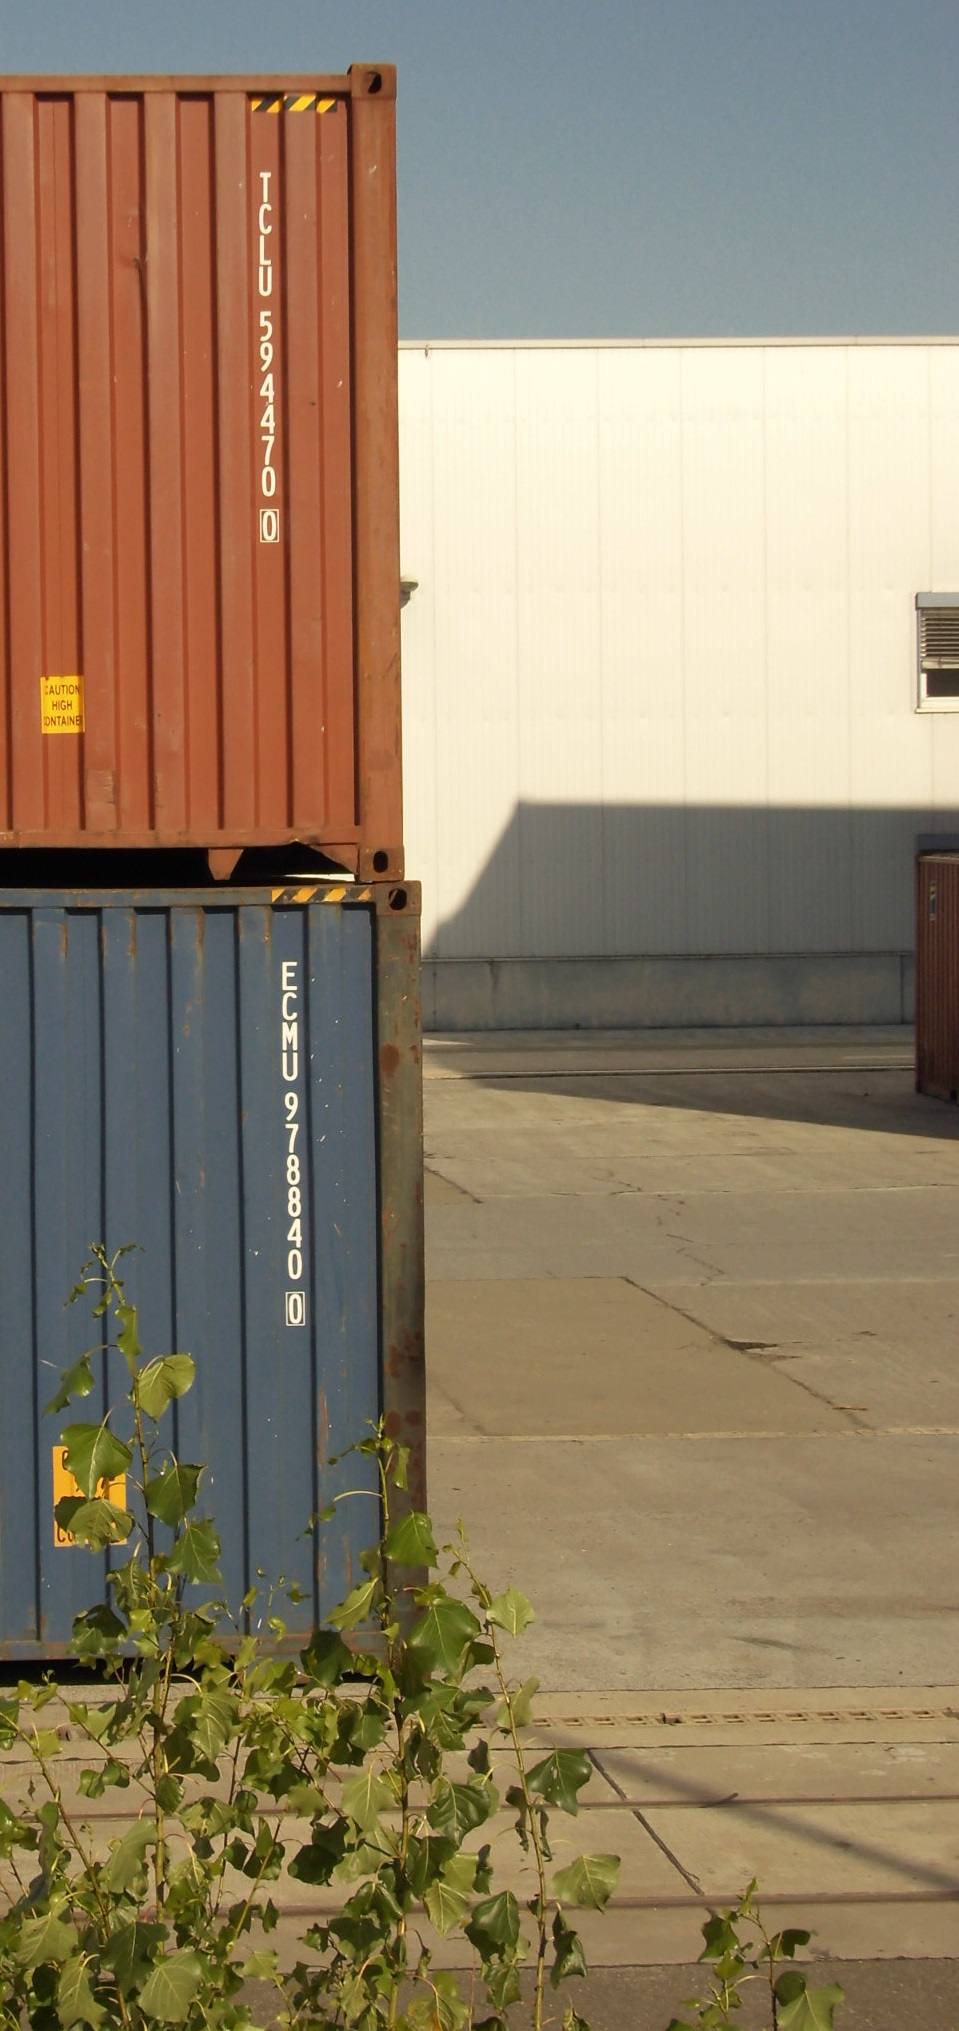container_no_door: (5, 877, 426, 1701), (1, 63, 390, 872)
